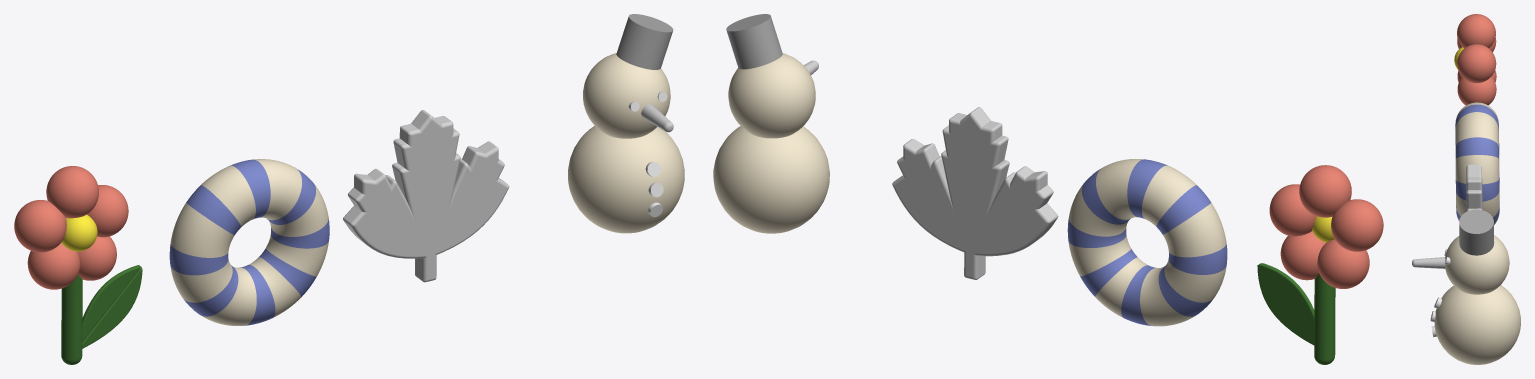
The model's file is ele1.fbx.
The picture shows the model from 3 angles, left to right: view 1: azimuth 30°, elevation 25°; view 2: azimuth 150°, elevation 25°; view 3: azimuth 270°, elevation 25°; orthographic projection. The views are drawn at different scales.
Parts seen in each view (by area): view 1: Body25, Body27, Body1, Body28, Body23, Body6, Body3, Body7, Body11, Body13, Body22, Body5 (+14 smaller); view 2: Body25, Body27, Body1, Body28, Body23, Body6, Body3, Body7, Body11, Body13, Body5, Body4 (+13 smaller); view 3: Body27, Body28, Body5, Body3, Body13, Body15, Body4, Body25, Body12, Body14, Body18, Body29 (+2 smaller).
Boxes of the visible parts, <box> form: Body25: <box>343,110,509,282</box>; Body27: <box>568,53,684,233</box>; Body1: <box>61,265,142,364</box>; Body28: <box>616,14,673,69</box>; Body23: <box>170,203,234,257</box>; Body6: <box>14,200,66,252</box>; Body3: <box>46,166,98,218</box>; Body7: <box>27,243,80,289</box>; Body11: <box>201,165,255,226</box>; Body13: <box>253,159,301,220</box>; Body22: <box>201,267,256,325</box>; Body5: <box>87,185,128,237</box>; Body25: <box>892,107,1058,279</box>; Body27: <box>713,53,829,233</box>; Body1: <box>1257,263,1335,364</box>; Body28: <box>726,14,782,69</box>; Body23: <box>1163,203,1226,257</box>; Body6: <box>1331,199,1383,251</box>; Body3: <box>1299,165,1351,217</box>; Body7: <box>1317,239,1369,288</box>; Body11: <box>1142,165,1196,226</box>; Body13: <box>1096,159,1143,219</box>; Body5: <box>1269,184,1316,236</box>; Body4: <box>1280,231,1325,280</box>; Body27: <box>1434,235,1520,364</box>; Body28: <box>1459,209,1494,255</box>; Body5: <box>1457,44,1496,83</box>; Body3: <box>1457,14,1495,48</box>; Body13: <box>1455,112,1498,146</box>; Body15: <box>1455,155,1498,184</box>; Body4: <box>1457,76,1496,105</box>; Body25: <box>1466,164,1482,211</box>; Body12: <box>1455,137,1498,158</box>; Body14: <box>1455,180,1499,201</box>; Body18: <box>1456,192,1499,217</box>; Body29: <box>1412,257,1445,268</box>.
Size of the model in its own units: 26.02 by 7.88 by 5.02.
